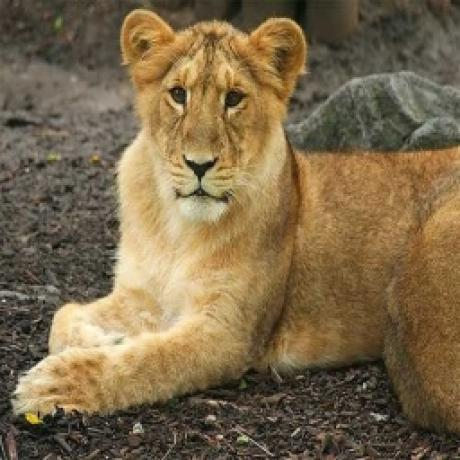Lion: (16, 5, 460, 438)
